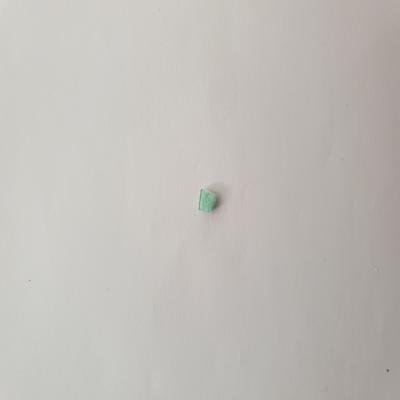plastic: (194, 185, 223, 214)
